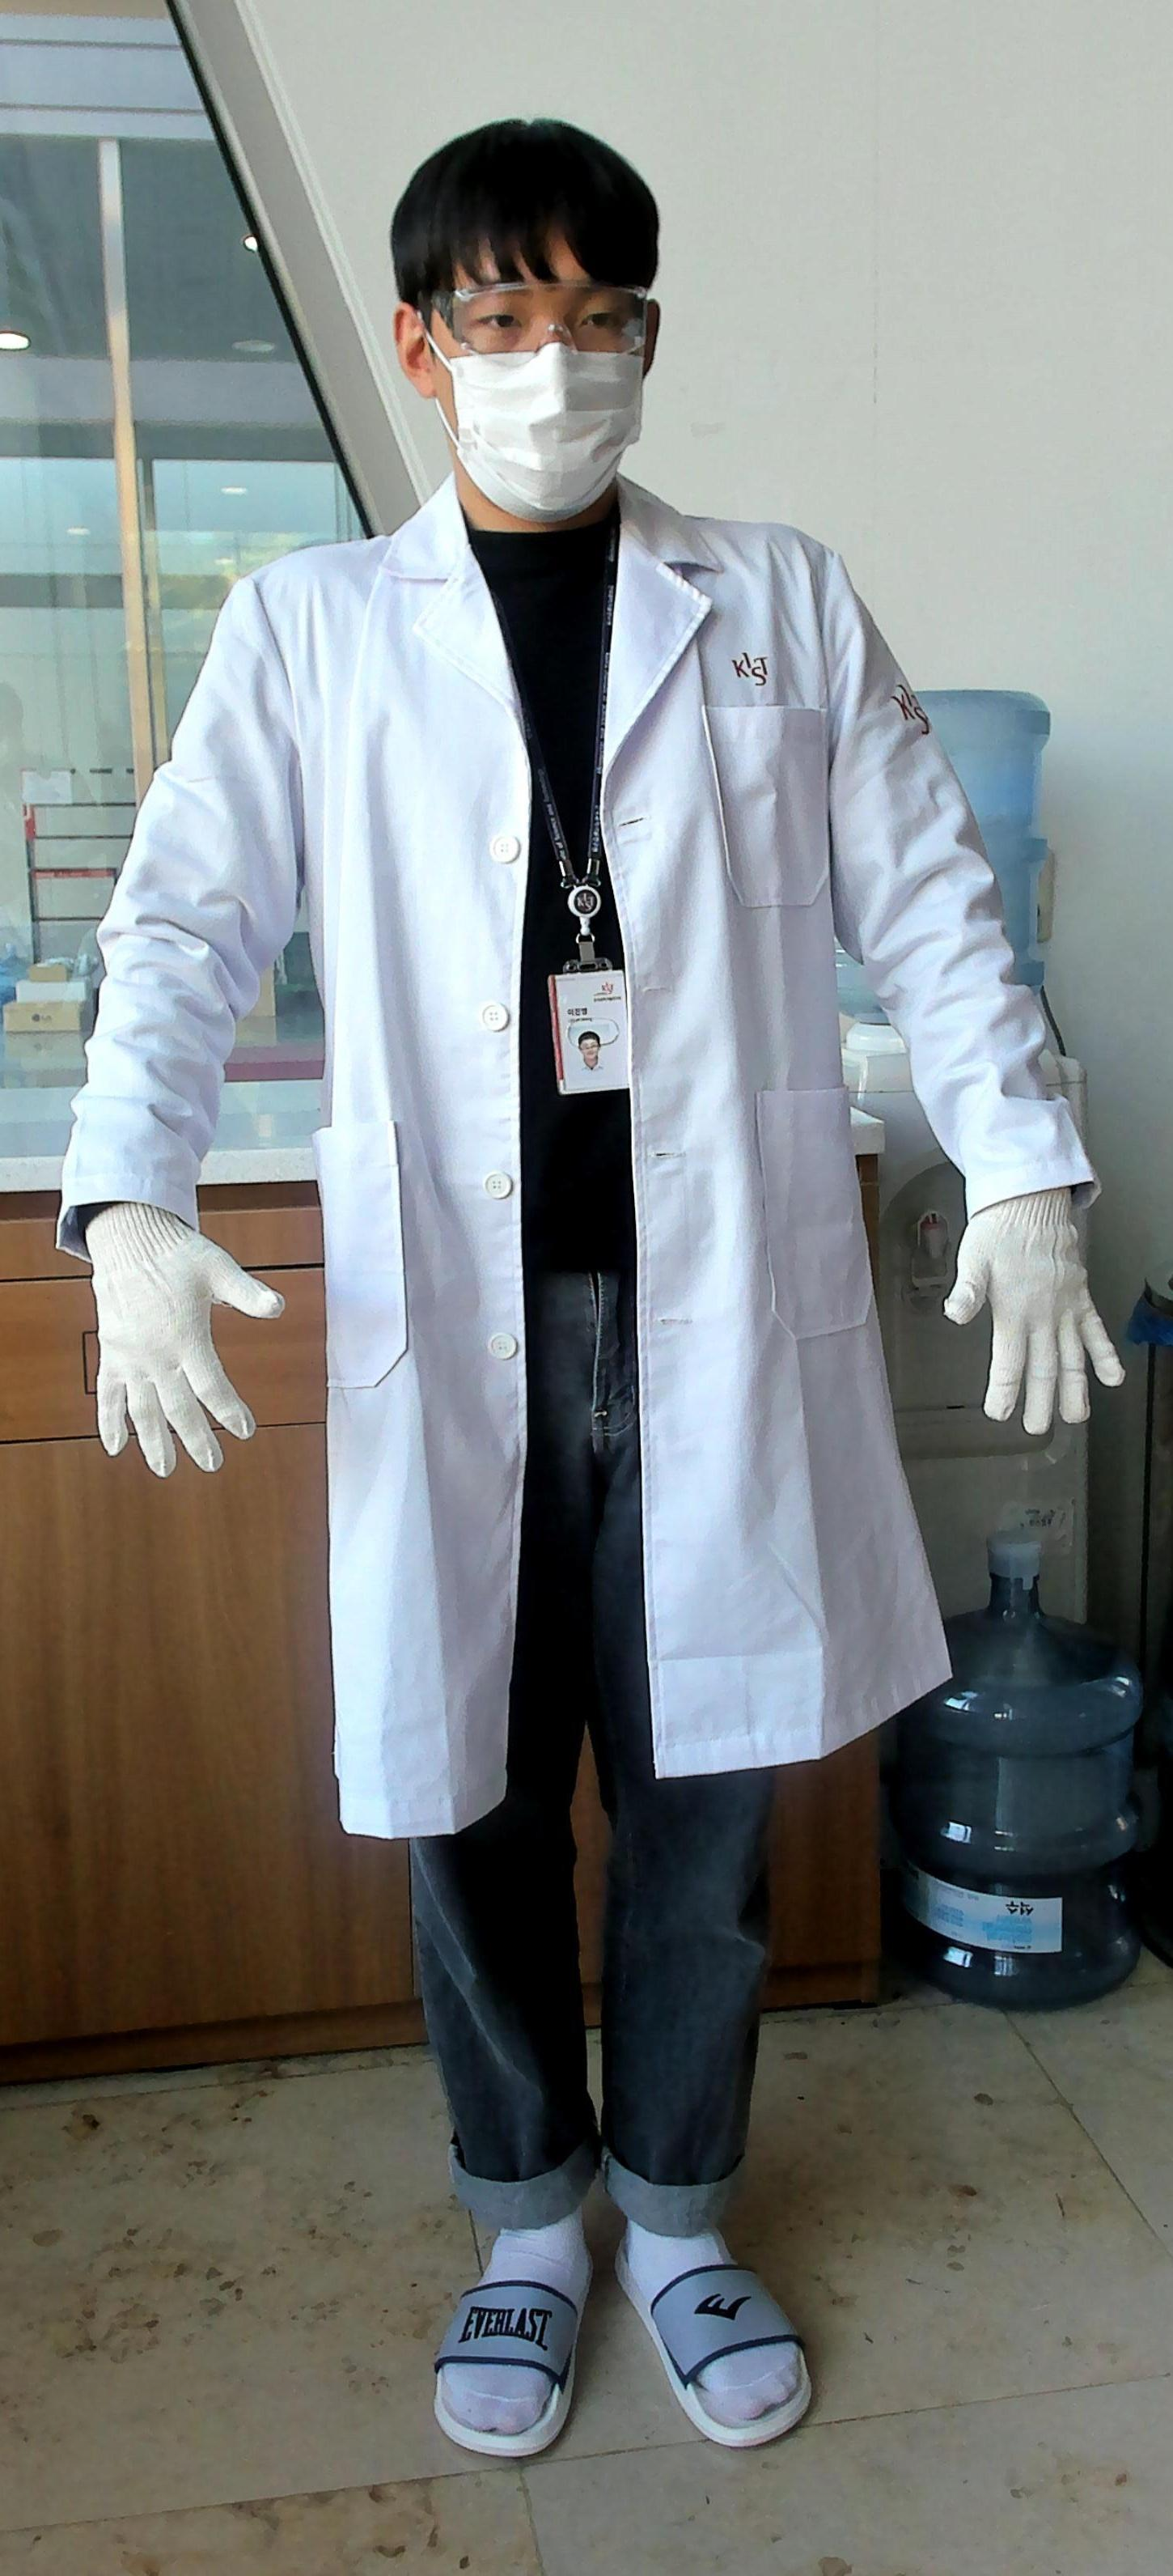lab_coat: (253, 544, 938, 1764)
